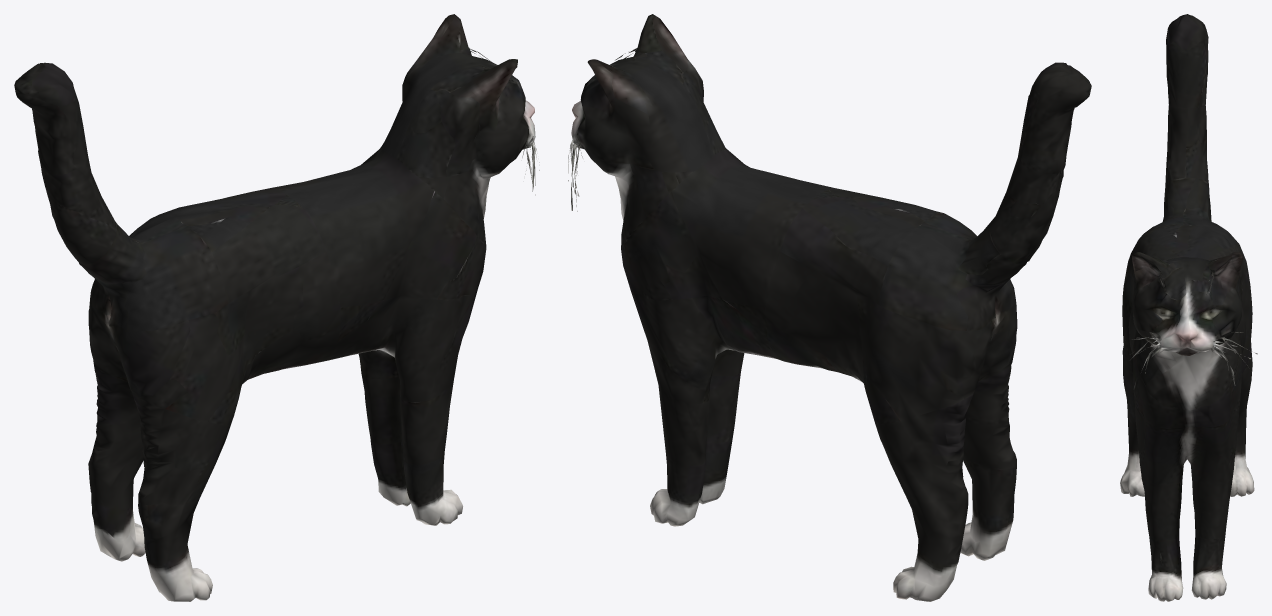
Rendered from CALIBAN-lo.glb.
The picture shows the model from 3 angles, left to right: view 1: azimuth 30°, elevation 25°; view 2: azimuth 150°, elevation 25°; view 3: azimuth 270°, elevation 25°; orthographic projection. The views are drawn at different scales.
Visible parts, largest first — view 1: tripo_node_dc03b6f6-1357-4bef-9845-f6b3fe3d11af; view 2: tripo_node_dc03b6f6-1357-4bef-9845-f6b3fe3d11af; view 3: tripo_node_dc03b6f6-1357-4bef-9845-f6b3fe3d11af.
Part boxes in pixels (box(x1,y1,x2,y2)): tripo_node_dc03b6f6-1357-4bef-9845-f6b3fe3d11af: box(14, 14, 539, 601); tripo_node_dc03b6f6-1357-4bef-9845-f6b3fe3d11af: box(568, 14, 1091, 601); tripo_node_dc03b6f6-1357-4bef-9845-f6b3fe3d11af: box(1120, 14, 1257, 601).
Size of the model in its own units: 1 by 0.9997 by 0.2883.
Materials: 1 (1 with a texture image).
